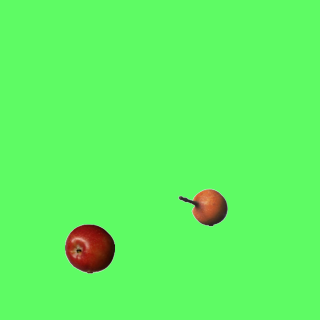Apple Braeburn: (64, 223, 114, 273)
Granadilla: (177, 182, 227, 232)
